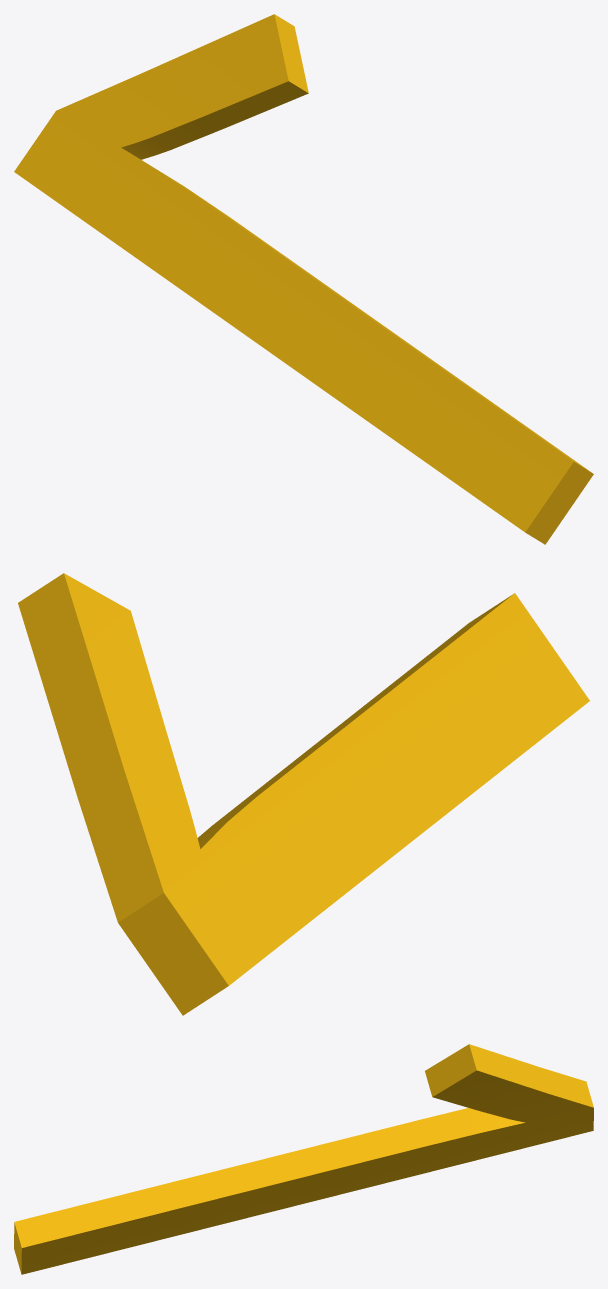
File: Number_1.gltf
The picture shows the model from 3 angles, top to bottom: view 1: azimuth 30°, elevation 25°; view 2: azimuth 150°, elevation 25°; view 3: azimuth 270°, elevation 25°; orthographic projection. The views are drawn at different scales.
Parts seen in each view (by area): view 1: Sub_7_Cell_2_3_Number_1; view 2: Sub_7_Cell_2_3_Number_1; view 3: Sub_7_Cell_2_3_Number_1.
Part boxes in pixels (x1,y1,x2,y2): Sub_7_Cell_2_3_Number_1: [14, 14, 593, 544]; Sub_7_Cell_2_3_Number_1: [18, 573, 589, 1015]; Sub_7_Cell_2_3_Number_1: [14, 1044, 593, 1274].
Bounding box in the file's own units: 0.00794 × 0.0112 × 0.0246.
